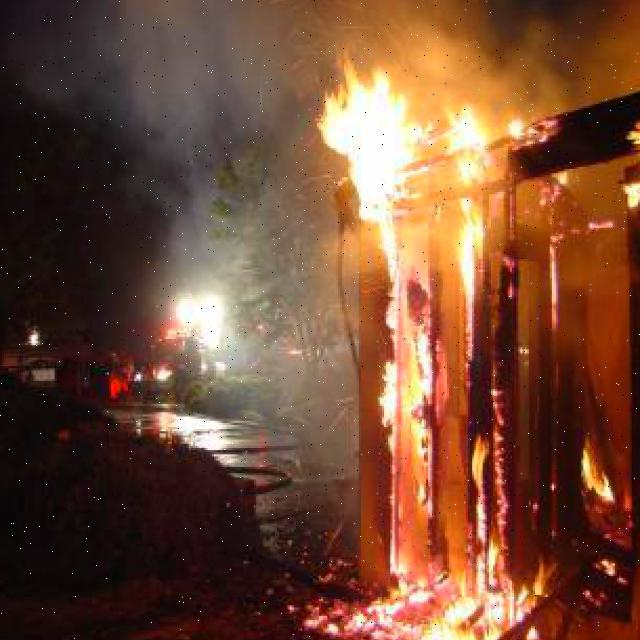fire: (321, 85, 499, 640), (533, 169, 577, 345), (499, 551, 558, 640), (573, 418, 619, 522)
smoke: (117, 83, 319, 381)
